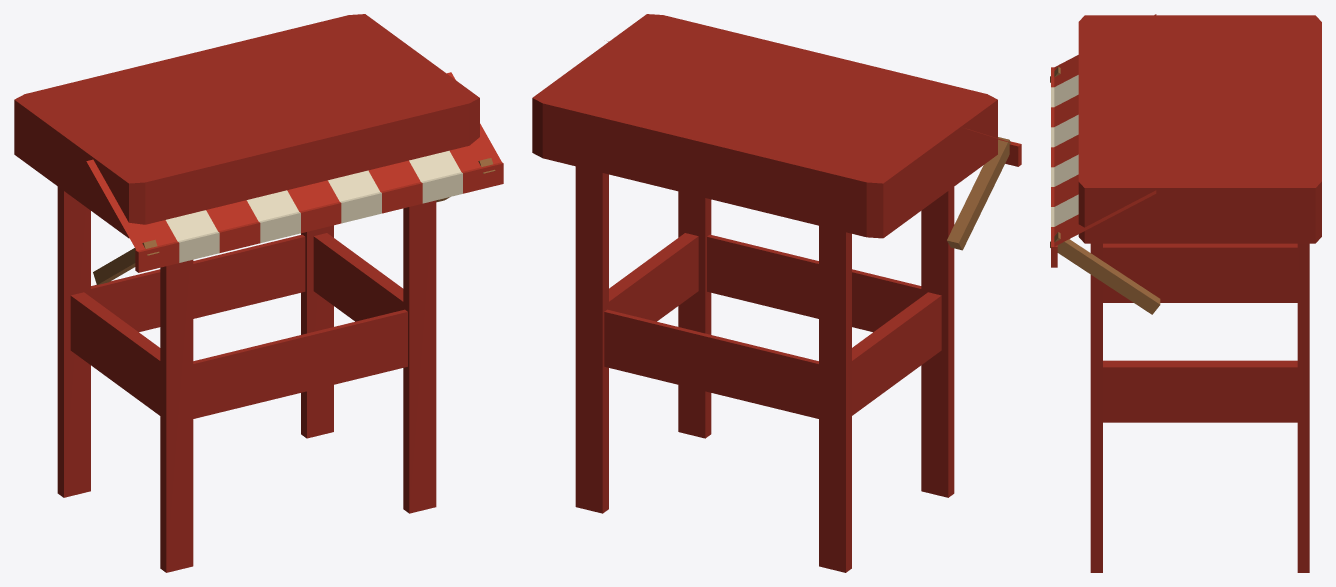
File: market-stall-coral.glb
The picture shows the model from 3 angles, left to right: view 1: azimuth 30°, elevation 25°; view 2: azimuth 150°, elevation 25°; view 3: azimuth 270°, elevation 25°; orthographic projection.
Parts seen in each view (by area): view 1: market-stall-coral; view 2: market-stall-coral; view 3: market-stall-coral.
Boxes of the visible parts, <box> form: market-stall-coral: <box>14,14,503,572</box>; market-stall-coral: <box>532,14,1021,572</box>; market-stall-coral: <box>1050,14,1321,572</box>.
Size of the model in its own units: 2.24 by 2.35 by 1.43.
